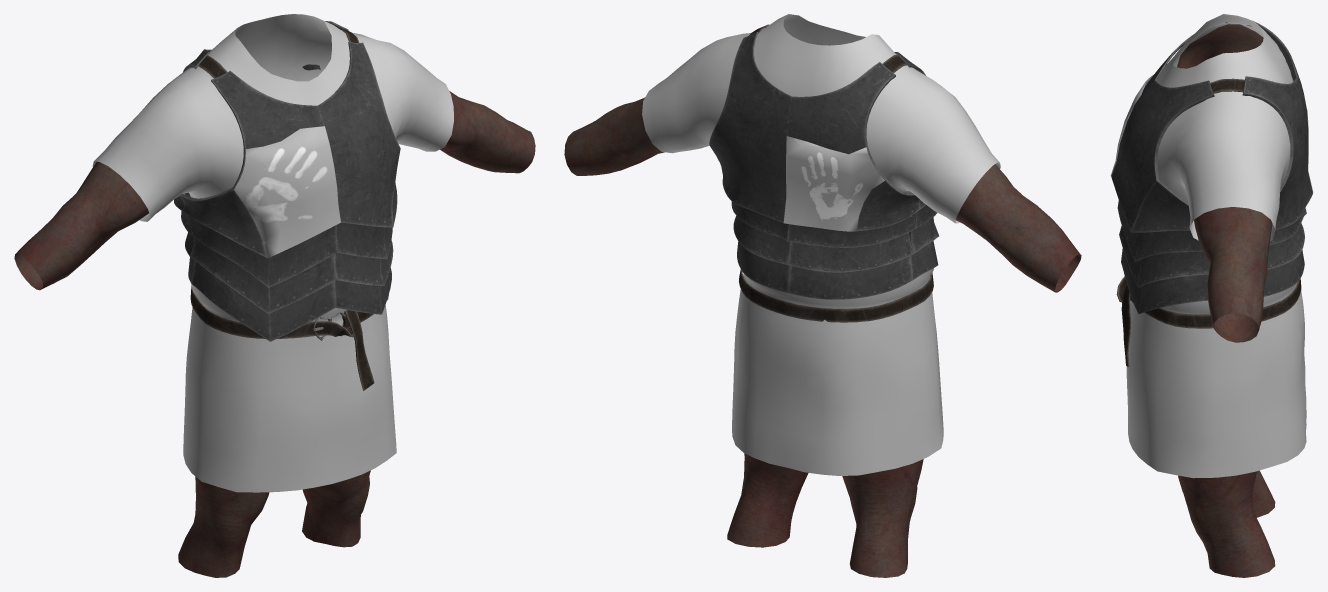
The model's file is sk_uruk_hai_plate_heavy_b1.fbx.
3 views of the same model, side by side, from view 1: azimuth 30°, elevation 25°; view 2: azimuth 150°, elevation 25°; view 3: azimuth 270°, elevation 25° (orthographic). The views are drawn at different scales.
Visible parts, largest first — view 1: sk_uruk_hai_plate_heavy_b1.3, sk_uruk_hai_plate_heavy_b1.1, sk_uruk_hai_plate_heavy_b1.body.1, sk_uruk_hai_plate_heavy_b1.2, sk_uruk_hai_plate_heavy_b1.body.0, sk_uruk_hai_plate_heavy_b1.0; view 2: sk_uruk_hai_plate_heavy_b1.3, sk_uruk_hai_plate_heavy_b1.1, sk_uruk_hai_plate_heavy_b1.body.1, sk_uruk_hai_plate_heavy_b1.body.0, sk_uruk_hai_plate_heavy_b1.2, sk_uruk_hai_plate_heavy_b1.0; view 3: sk_uruk_hai_plate_heavy_b1.3, sk_uruk_hai_plate_heavy_b1.1, sk_uruk_hai_plate_heavy_b1.body.1, sk_uruk_hai_plate_heavy_b1.body.0, sk_uruk_hai_plate_heavy_b1.0, sk_uruk_hai_plate_heavy_b1.2.
Part boxes in pixels (<box>): sk_uruk_hai_plate_heavy_b1.3: <box>92,14,453,492</box>; sk_uruk_hai_plate_heavy_b1.1: <box>174,21,400,341</box>; sk_uruk_hai_plate_heavy_b1.body.1: <box>14,91,535,290</box>; sk_uruk_hai_plate_heavy_b1.2: <box>234,126,340,257</box>; sk_uruk_hai_plate_heavy_b1.body.0: <box>178,470,370,577</box>; sk_uruk_hai_plate_heavy_b1.0: <box>190,24,388,390</box>; sk_uruk_hai_plate_heavy_b1.3: <box>642,14,1000,475</box>; sk_uruk_hai_plate_heavy_b1.1: <box>709,32,938,299</box>; sk_uruk_hai_plate_heavy_b1.body.1: <box>564,97,1081,292</box>; sk_uruk_hai_plate_heavy_b1.body.0: <box>727,453,923,577</box>; sk_uruk_hai_plate_heavy_b1.2: <box>783,136,884,231</box>; sk_uruk_hai_plate_heavy_b1.0: <box>739,24,933,322</box>; sk_uruk_hai_plate_heavy_b1.3: <box>1126,14,1306,478</box>; sk_uruk_hai_plate_heavy_b1.1: <box>1111,20,1312,314</box>; sk_uruk_hai_plate_heavy_b1.body.1: <box>1177,24,1272,342</box>; sk_uruk_hai_plate_heavy_b1.body.0: <box>1178,470,1275,577</box>; sk_uruk_hai_plate_heavy_b1.0: <box>1116,22,1301,367</box>; sk_uruk_hai_plate_heavy_b1.2: <box>1110,74,1313,192</box>.
Size of the model in its own units: 1.2 by 0.4334 by 1.19.
